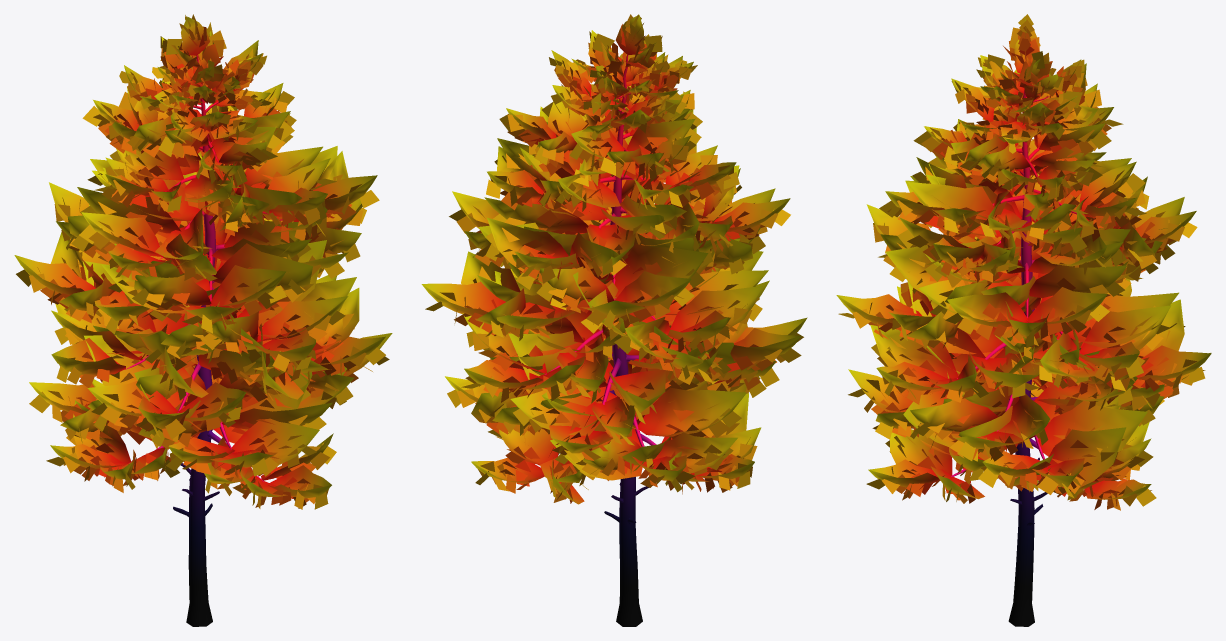
The model's file is SM_Black_Pine.fbx.
3 views of the same model, side by side, from view 1: azimuth 30°, elevation 25°; view 2: azimuth 150°, elevation 25°; view 3: azimuth 270°, elevation 25° (orthographic).
Visible parts, largest first — view 1: Box004; view 2: Box004; view 3: Box004.
Boxes of the visible parts, x1=… form: Box004: x1=14, y1=14, x2=392, y2=626; Box004: x1=421, y1=14, x2=807, y2=626; Box004: x1=836, y1=14, x2=1211, y2=626.
Bounding box in the file's own units: 1048 × 1827 × 1032.
